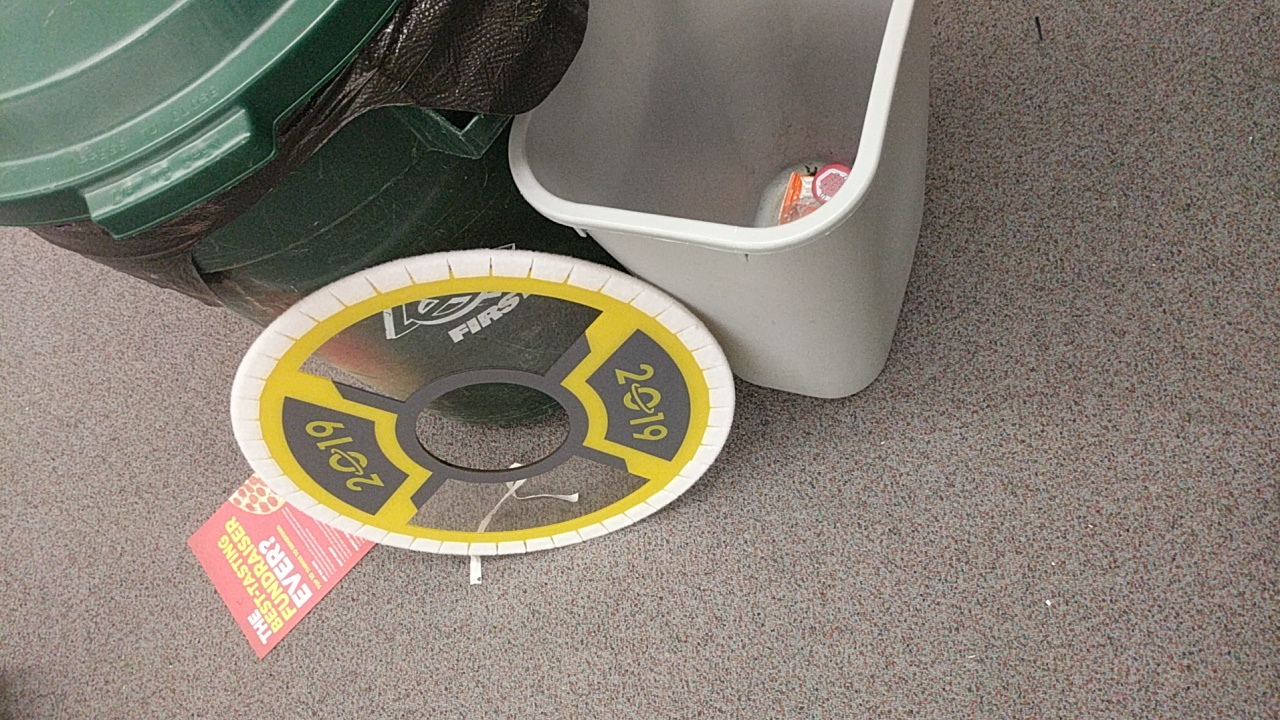hatch_panel: (231, 250, 756, 560)
